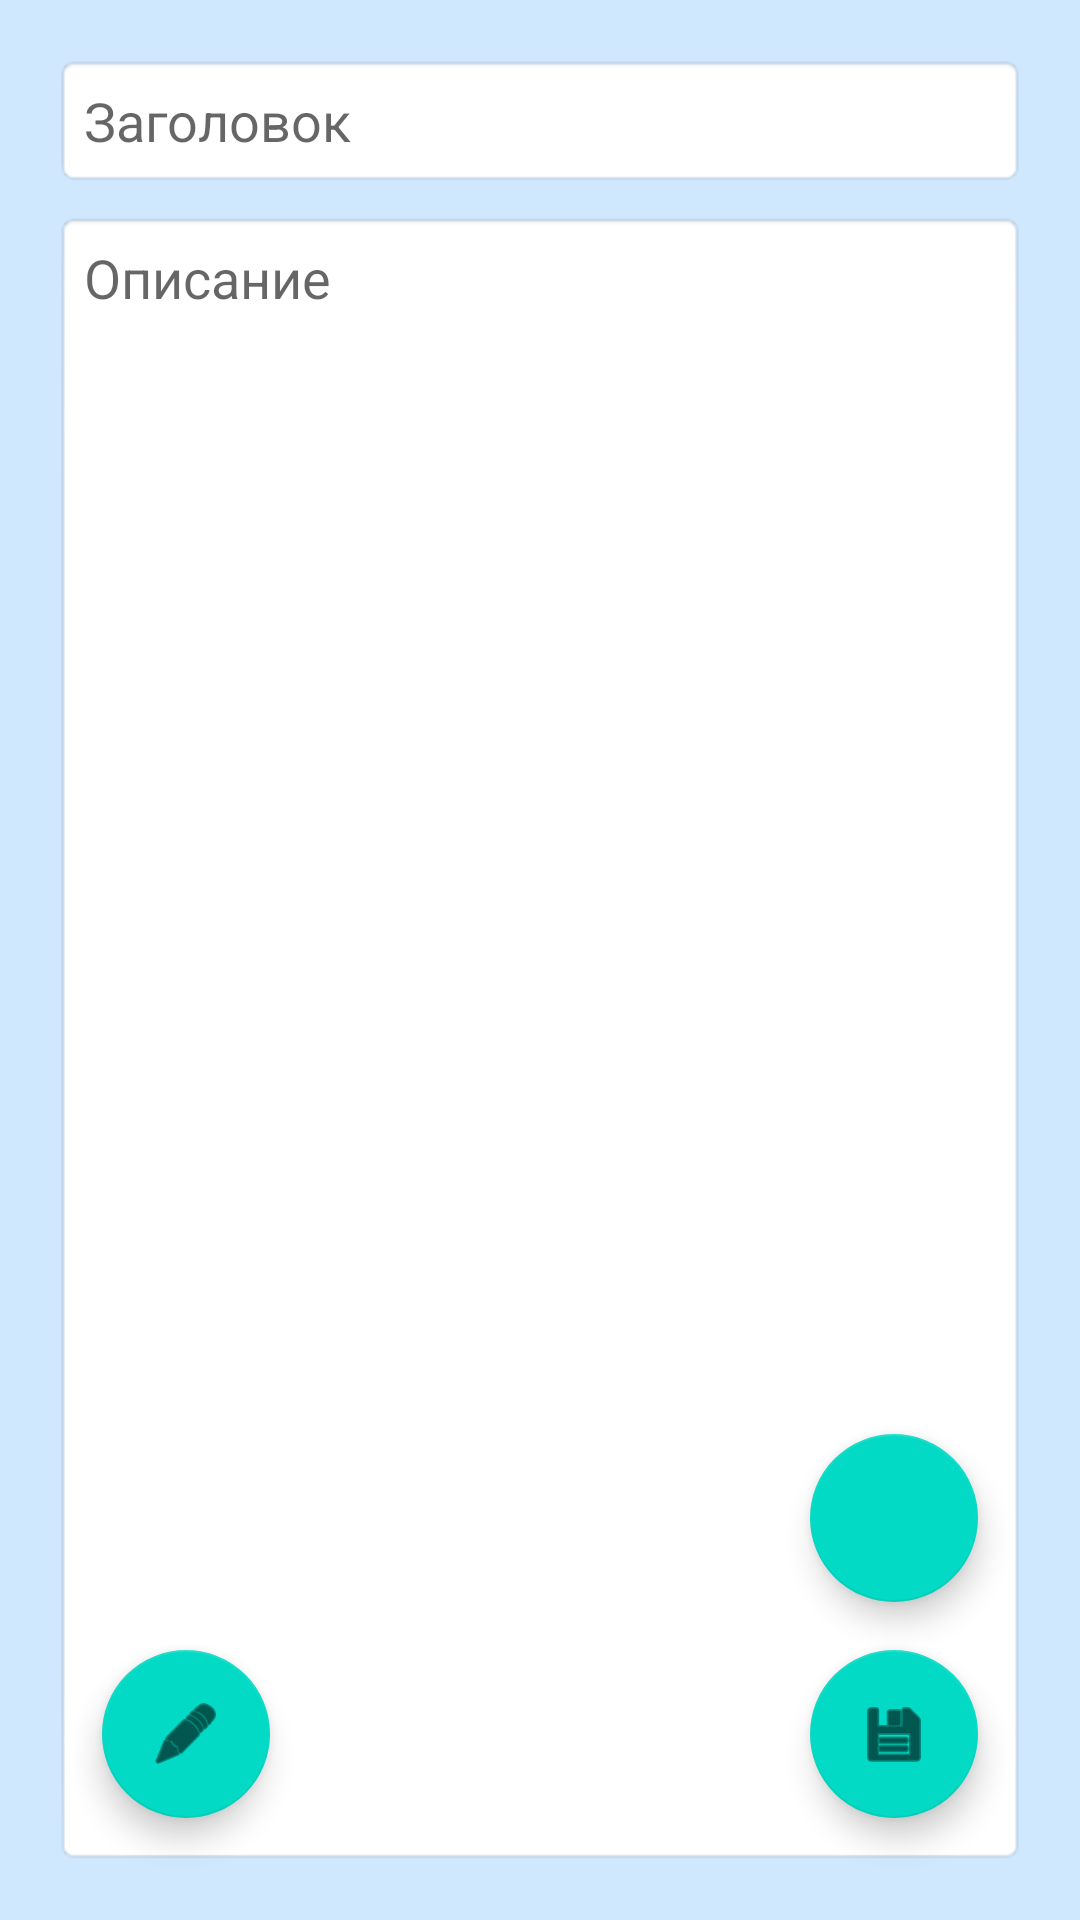

Where to tap for icons on this 1080 x 1920 app screen, as [x,y]:
edit: [186,1734]
save: [894,1734]
